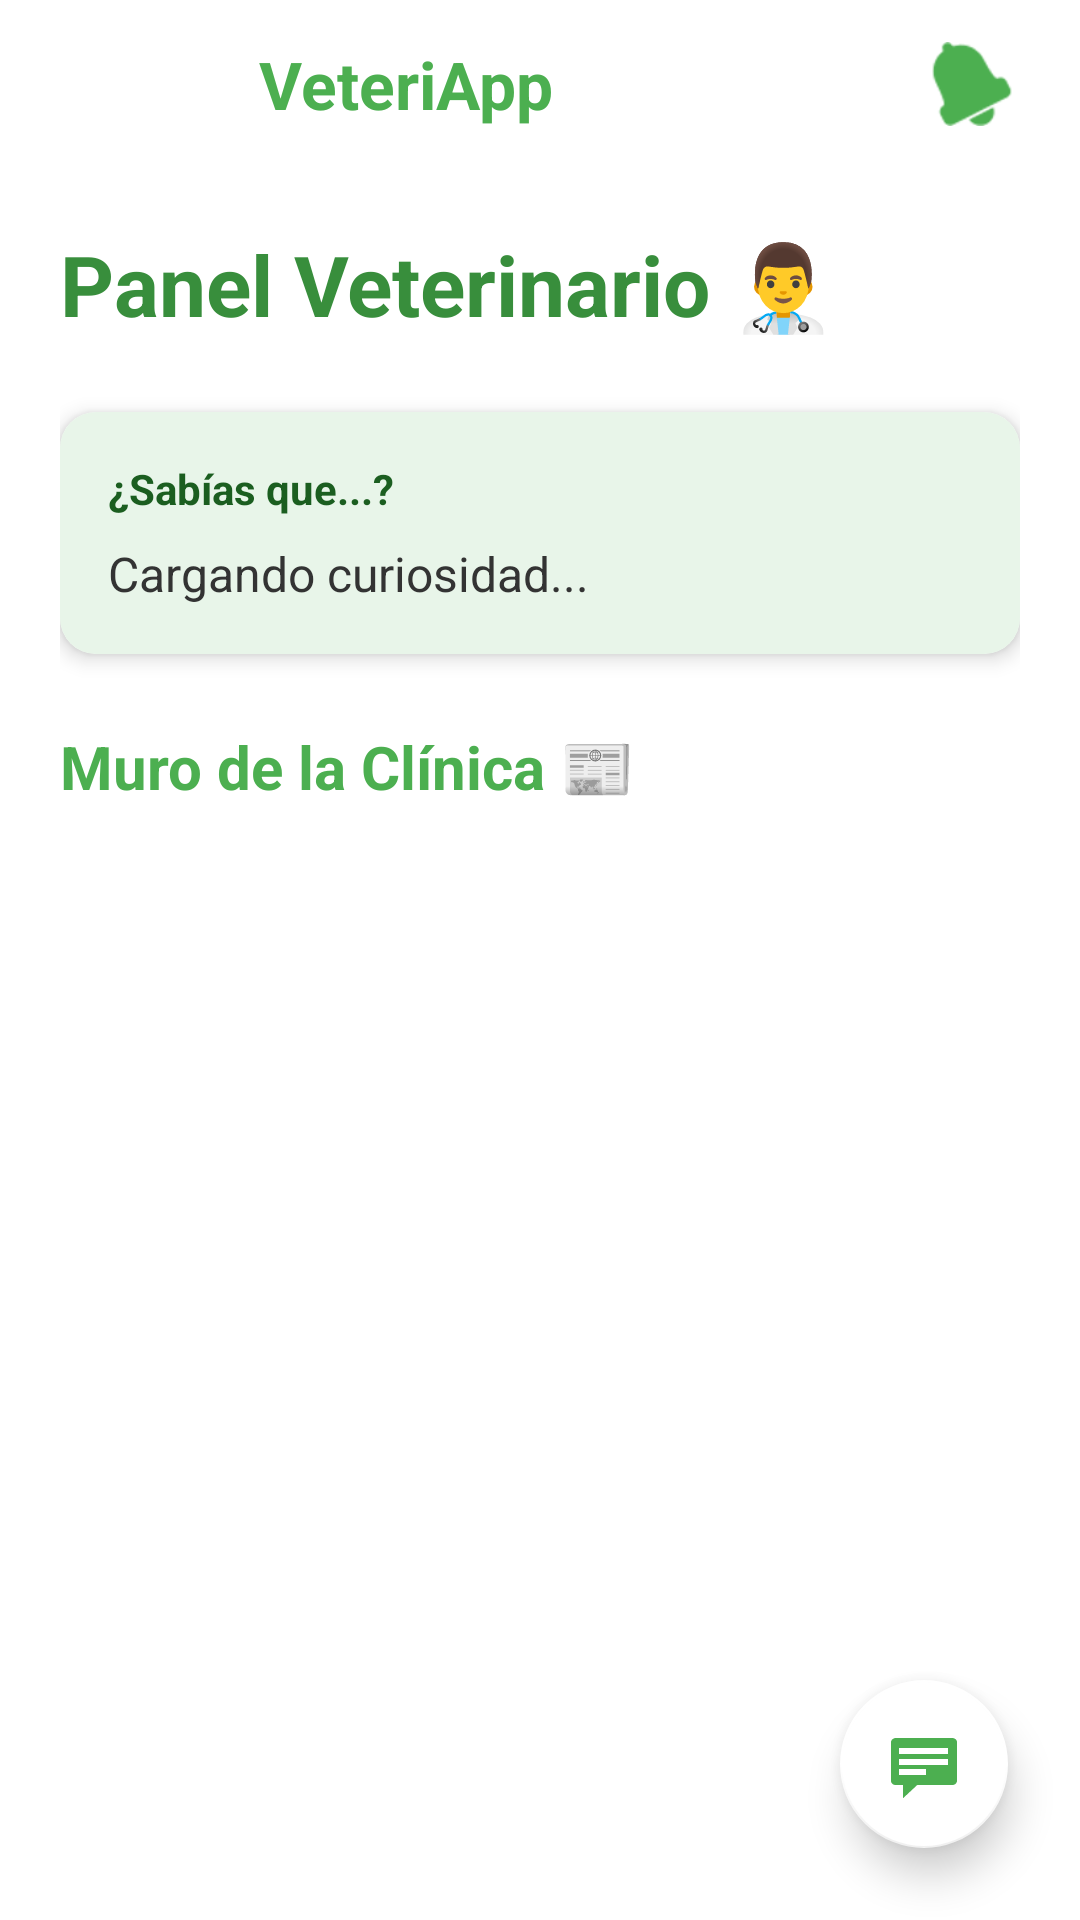

Where icons sit on this 1080px x 1920px app screen, as (x1, y1, x2, y2):
chat: (891, 1738, 957, 1798)
popup reminder: (932, 42, 1012, 126)
